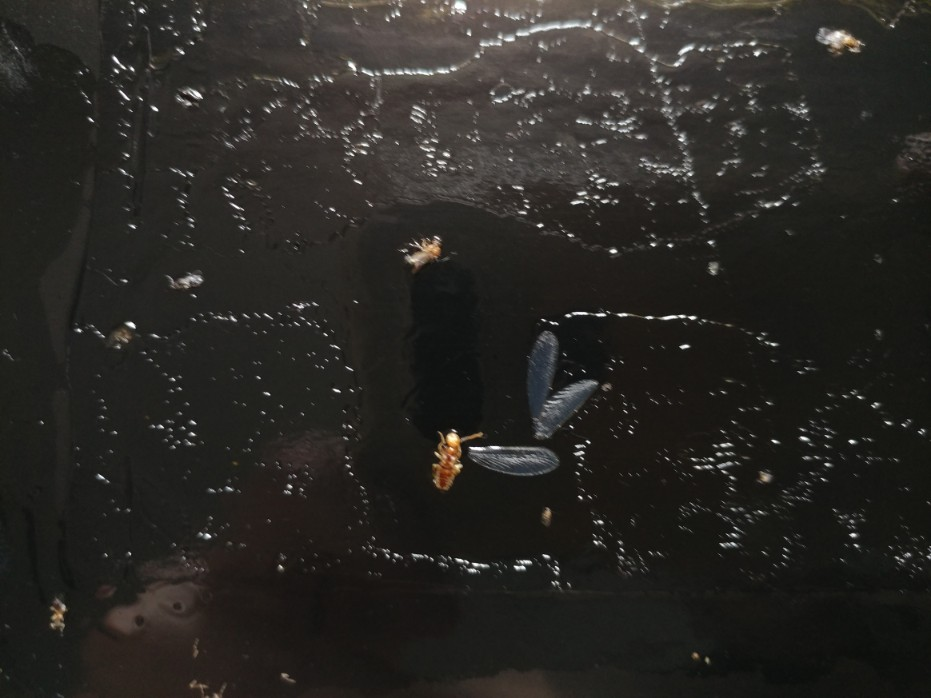flying termite: (428, 415, 476, 497)
